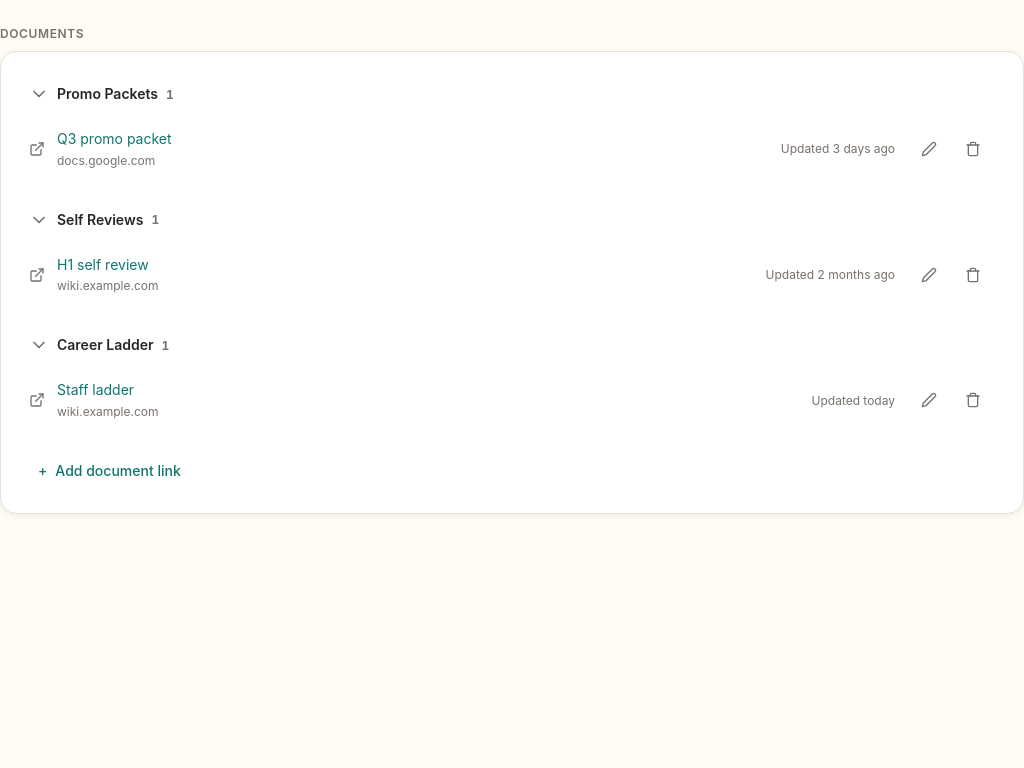
Test: DocumentLinks › adds a link with the trimmed title, the URL and the chosen category
Step 1. Click the button "+ Add document link" → (109, 471), box [21,449,198,493]
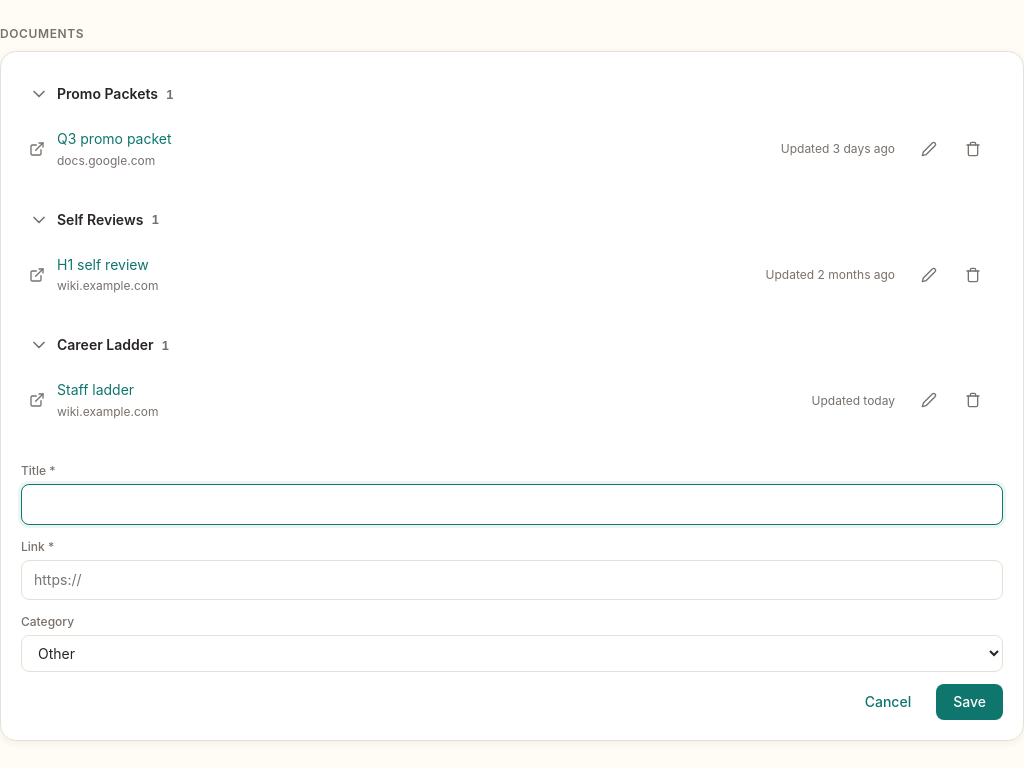
Step 2. Type "  FY26 IDP " into the field labelled "Title *" → (512, 504), box [21,484,1003,524]
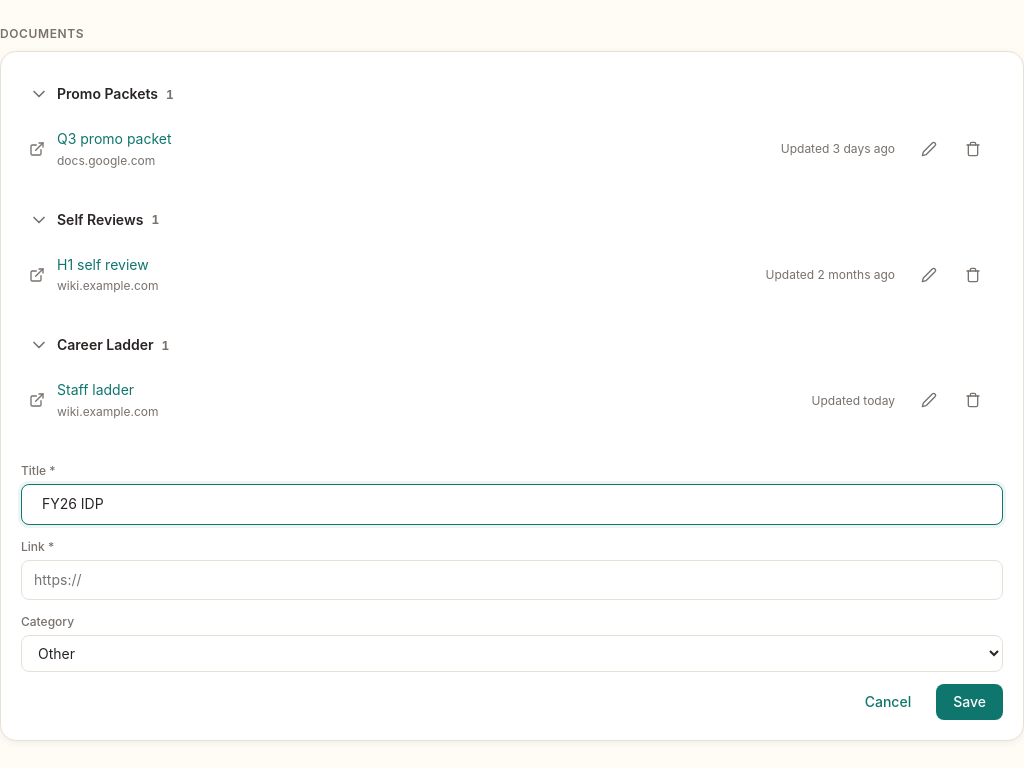
Step 3. Type "https://docs.google.com/document/d/idp" into the field labelled "Link *" → (512, 580), box [21,560,1003,600]
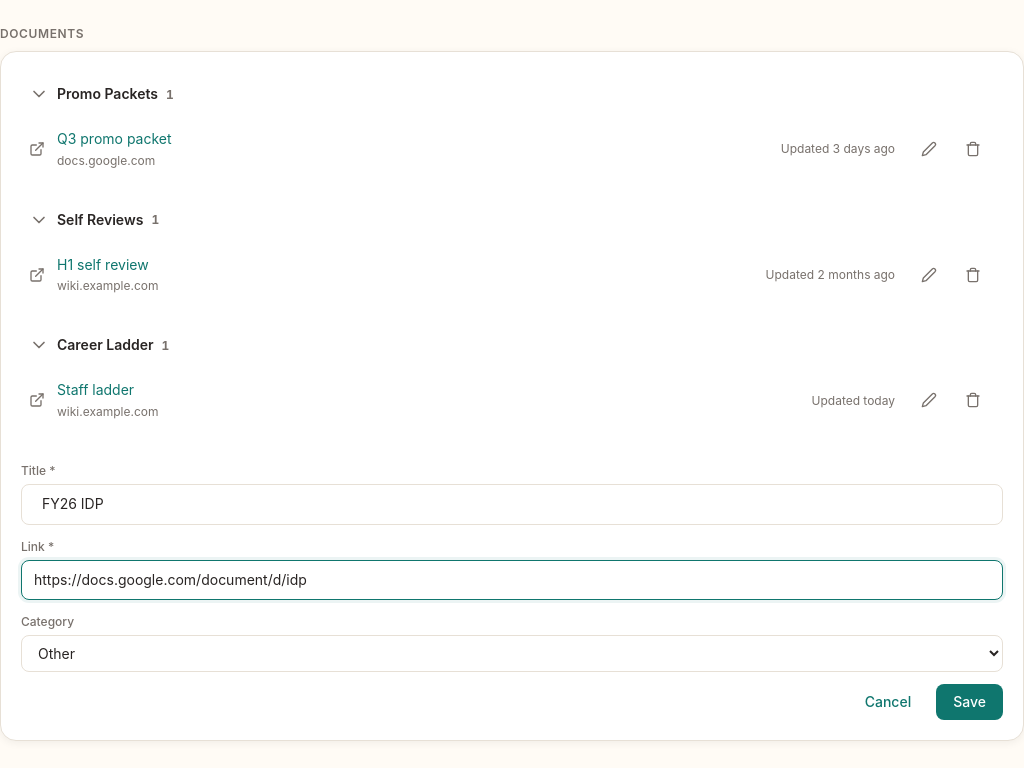
Step 4. Select "IDPs" in the dropdown labelled "Category" → (512, 654), box [21,635,1003,672]
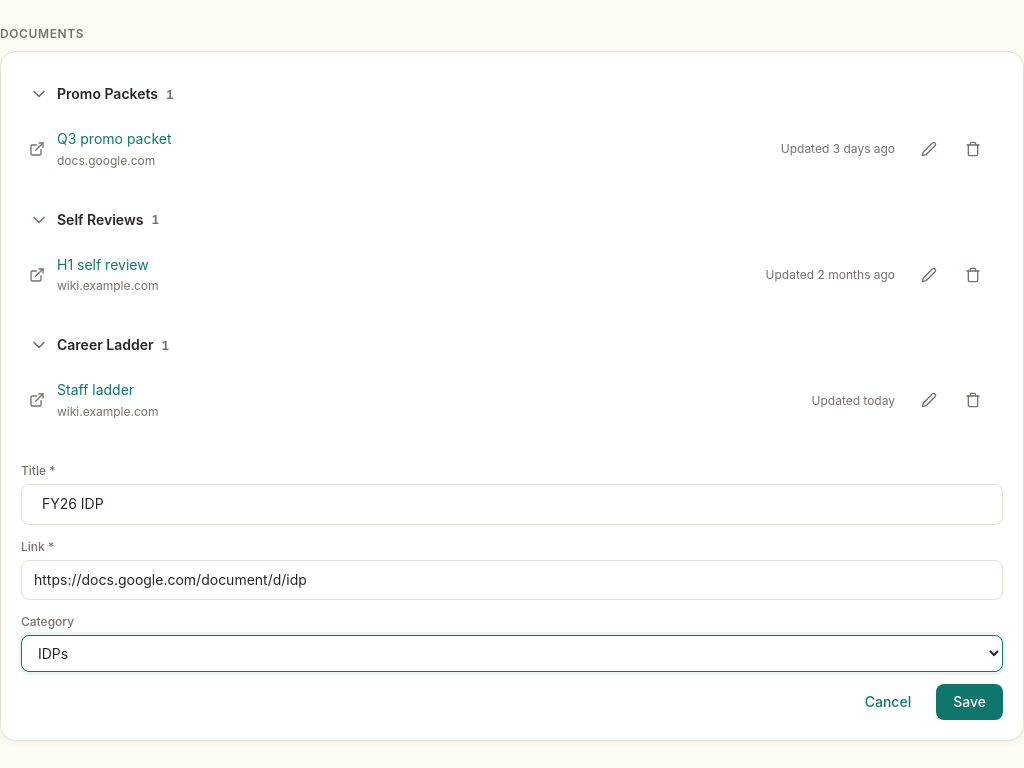
Step 5. Click the button "Save" → (970, 702), box [936,684,1003,720]
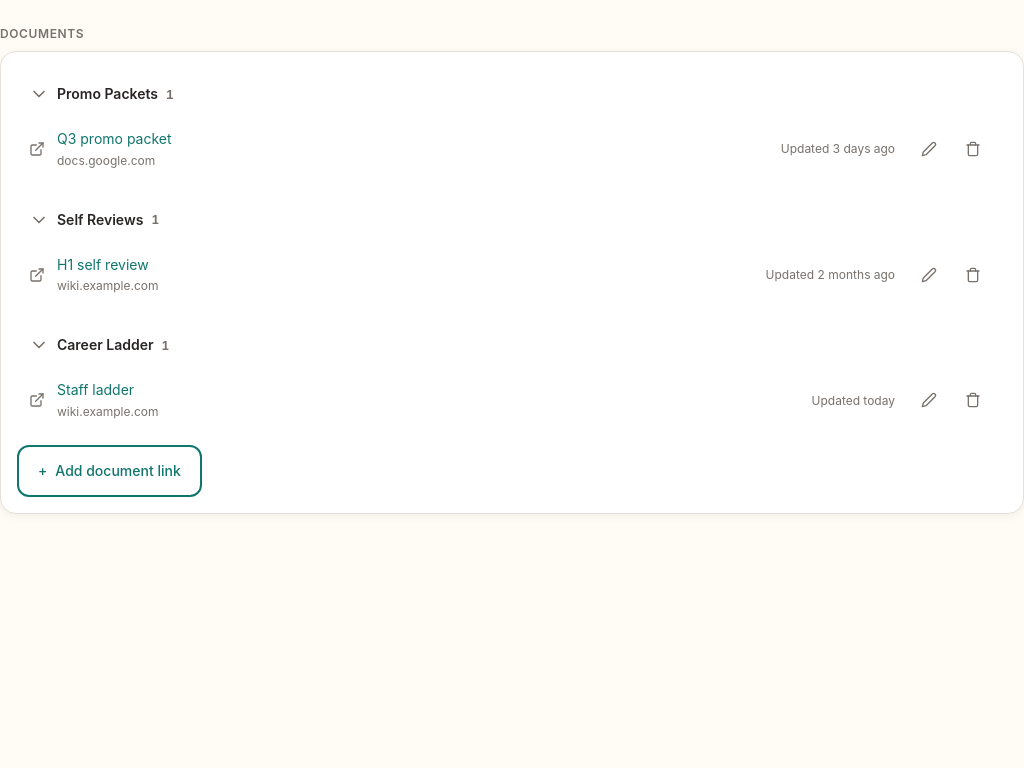
Expected: the form is gone
